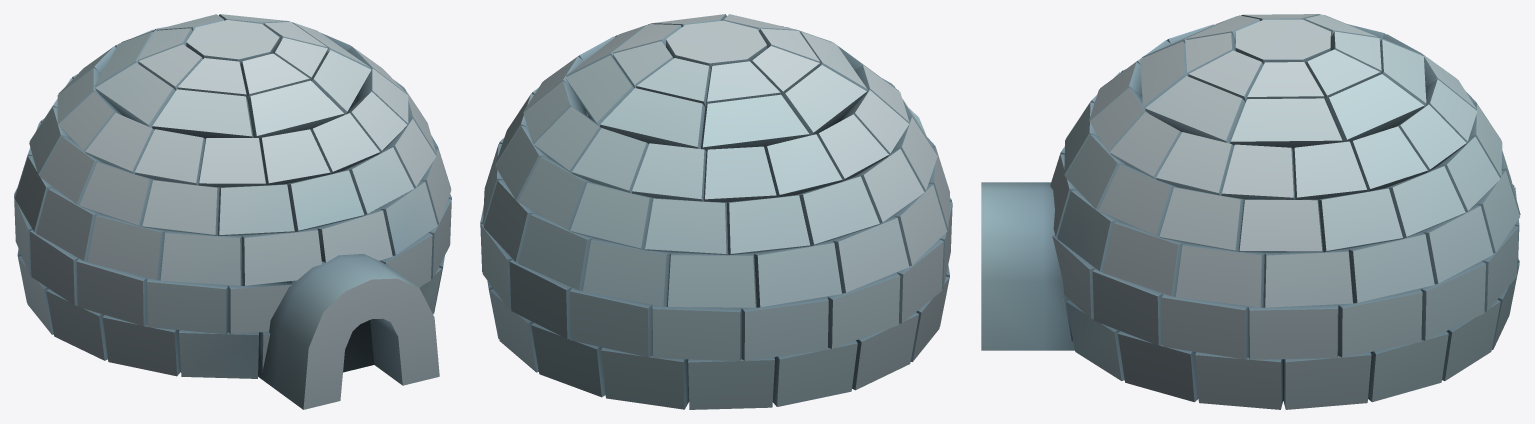
File: Residential_Igloo.glb
3 views of the same model, side by side, from view 1: azimuth 30°, elevation 25°; view 2: azimuth 150°, elevation 25°; view 3: azimuth 270°, elevation 25° (orthographic). The views are drawn at different scales.
Parts seen in each view (by area): view 1: base.136; view 2: base.136; view 3: base.136.
Boxes of the visible parts, left/top/right/bottom form: base.136: left=14, top=14, right=451, bottom=409; base.136: left=480, top=14, right=952, bottom=409; base.136: left=981, top=14, right=1520, bottom=409.
Size of the model in its own units: 6.91 by 4.41 by 7.85.
